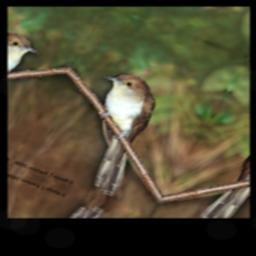Cuckoo: (45, 66, 180, 197)
